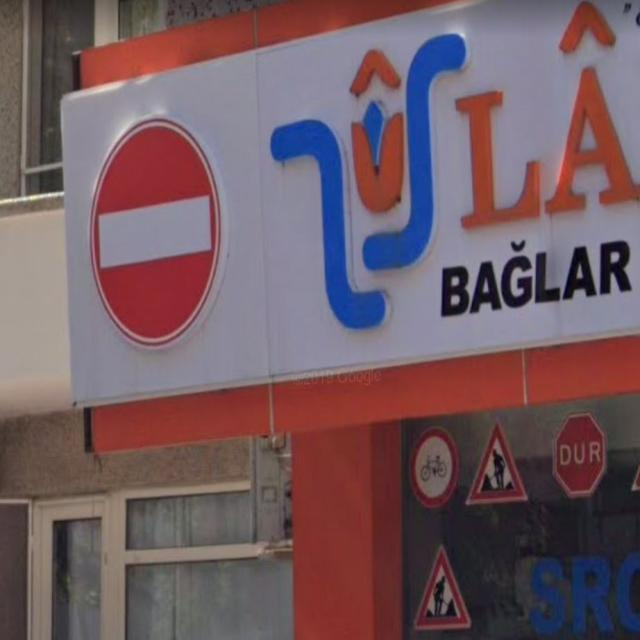dur: (552, 412, 604, 498)
girisyok: (92, 117, 222, 344)
